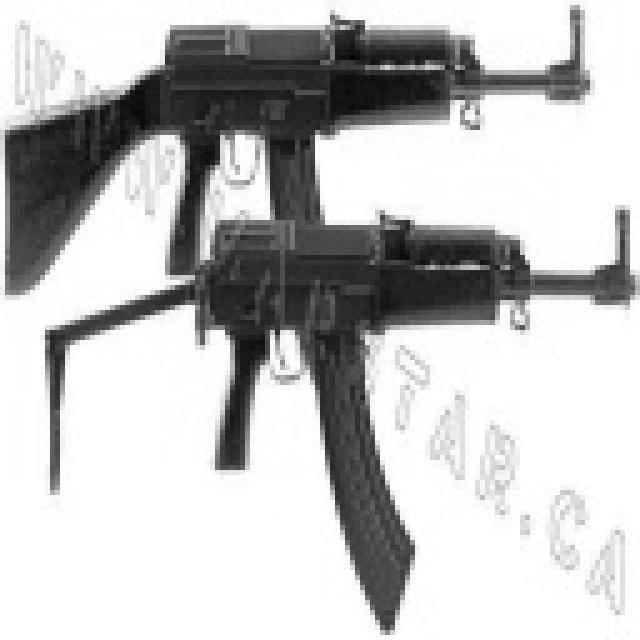Rifle: (35, 195, 640, 635), (0, 0, 640, 311)
